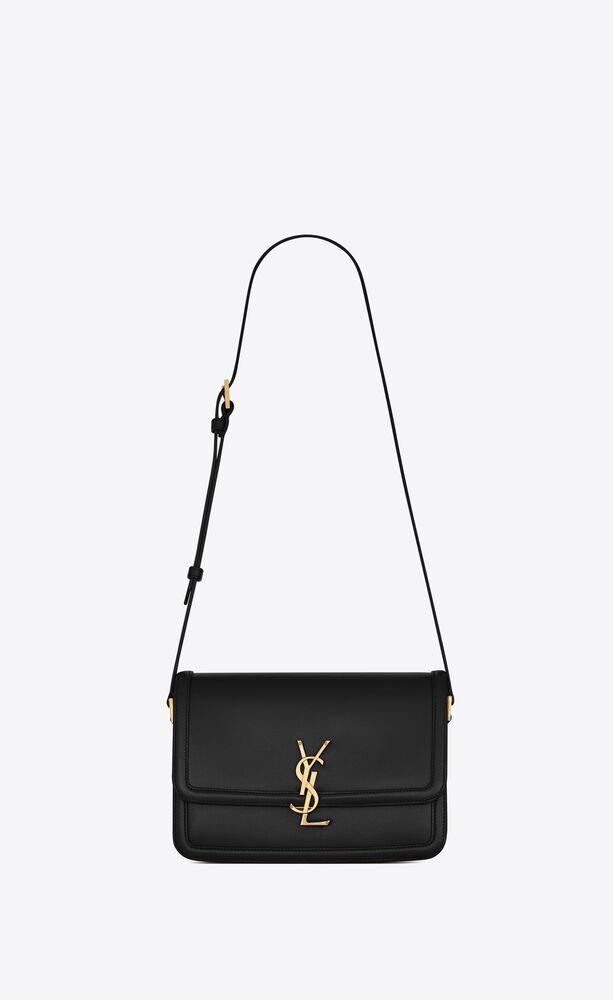YVES-SAINT-LAURENT: (290, 740, 330, 826)
